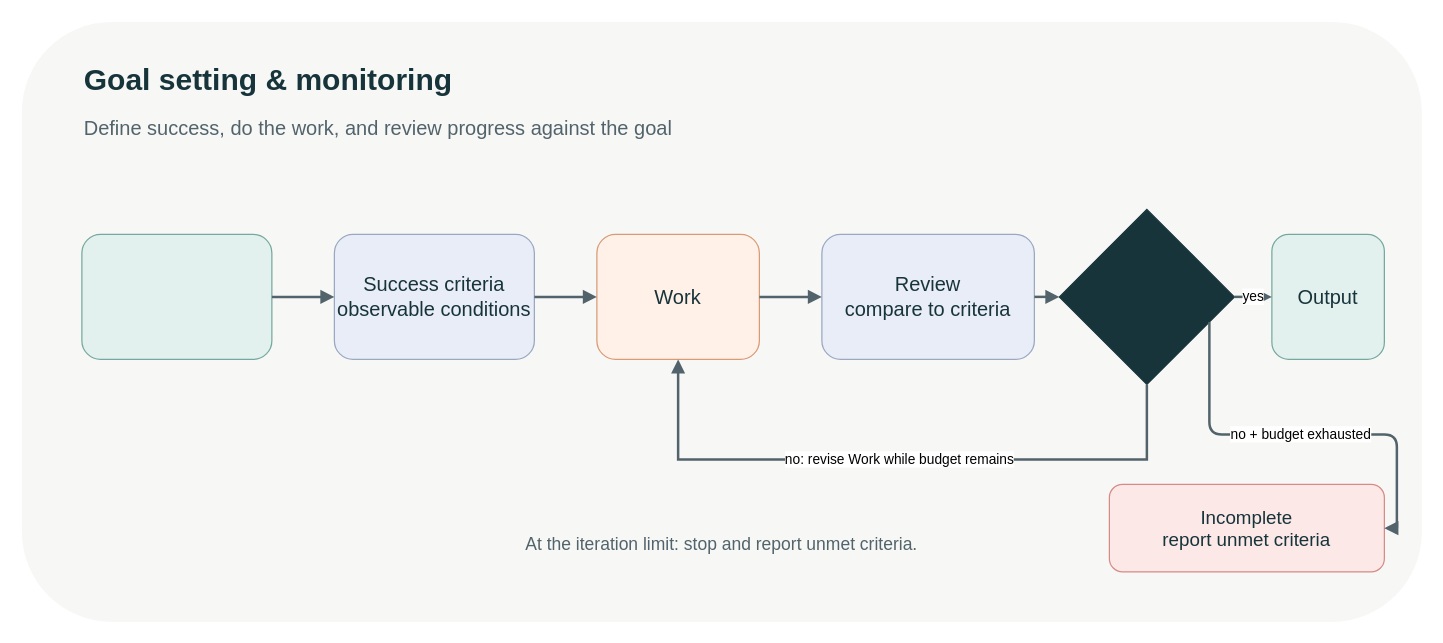
Some shapes in this 1443 by 643 pixel diagram are drawn without their labels. The shapes that lost their labels are listed below. From the top down, each one's centre as x and y in pixels, then its label:
(176,296): Goal
(1146,296): Goal reached?
